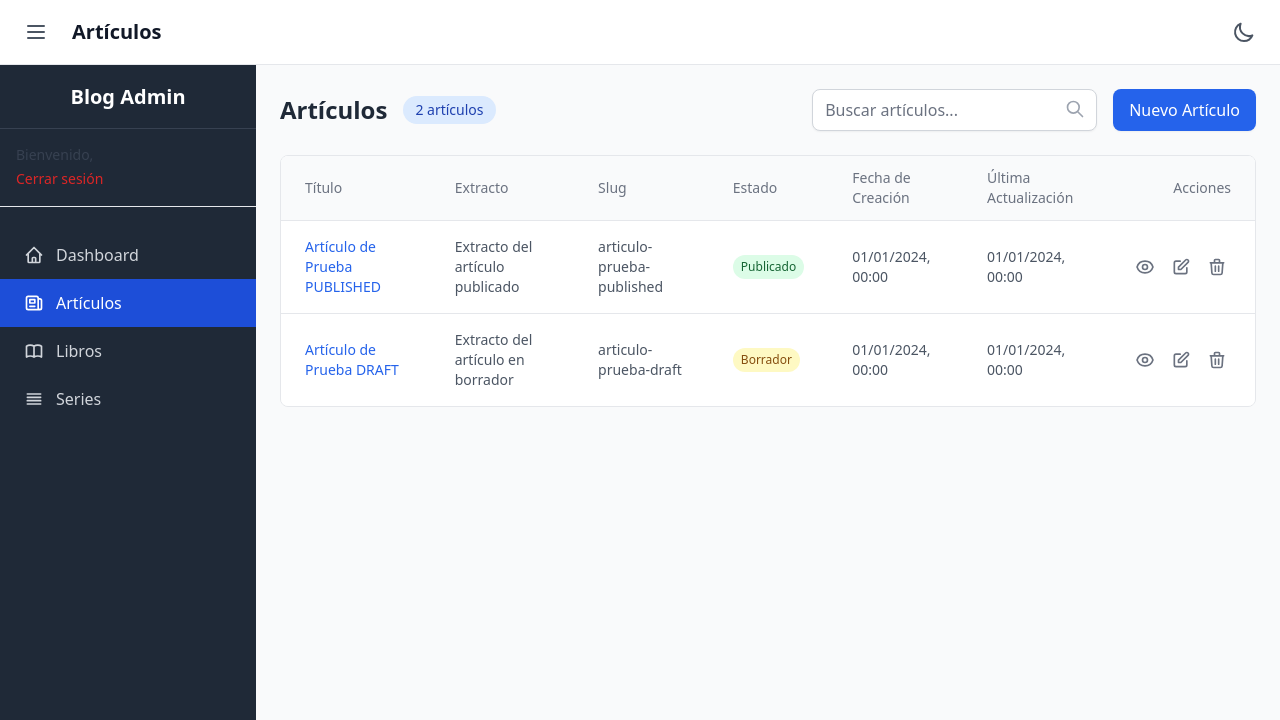
Test: Gestión de Artículos › Debería permitir ver detalles de un artículo existente
This screenshot has width=1280, height=720.
// Hacemos clic en el primer artículo para ver sus detalles
What coordinates should you click on to do the following:
click the link with test id "view-article-button" in the row of "Artículo de Prueba PUBLISHED"
I would click on:
 (1145, 267)
Its box is [1135, 257, 1155, 277].
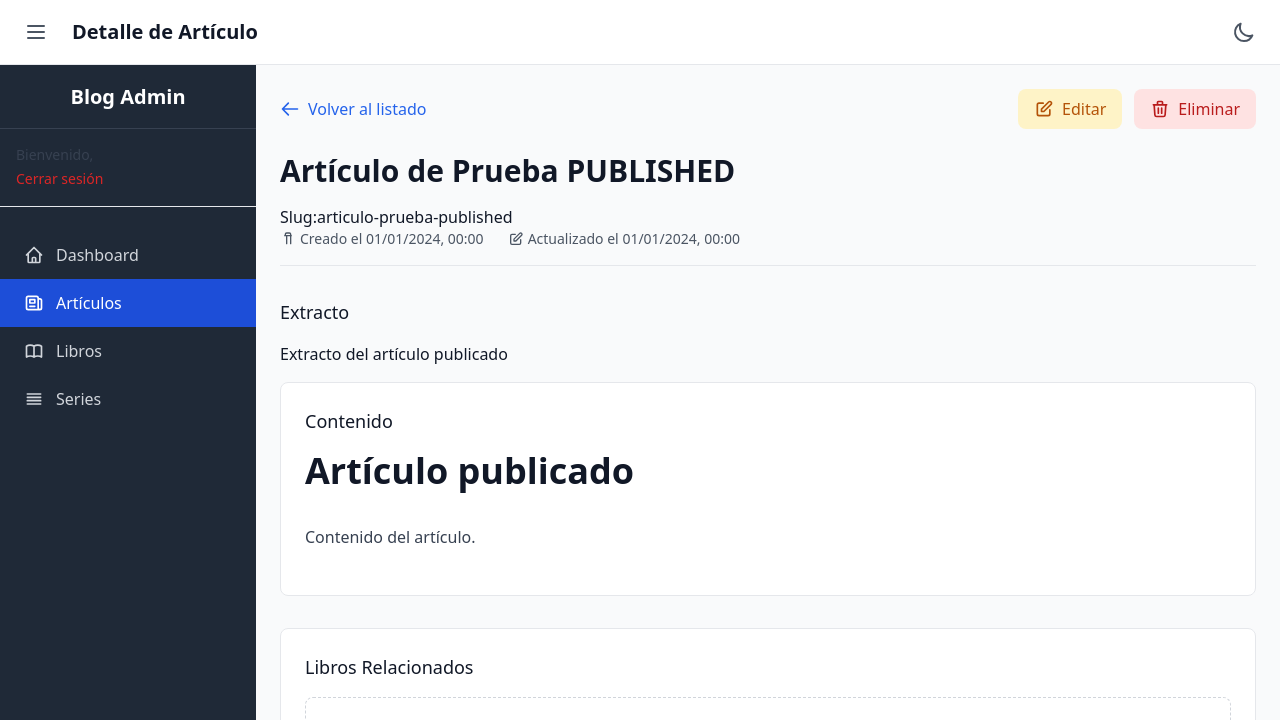
Check: the heading "Artículo de Prueba PUBLISHED" is shown, box [280, 150, 735, 191]
Check: the element with test id "article-excerpt" is shown, box [280, 300, 508, 365]
Check: the element with test id "article-content" that starts with "Contenido" is shown, box [280, 382, 1256, 596]
